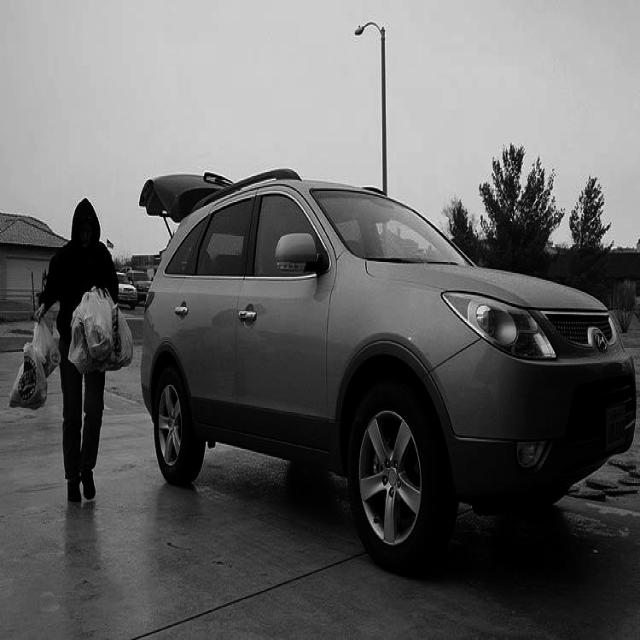car: (138, 166, 636, 576)
